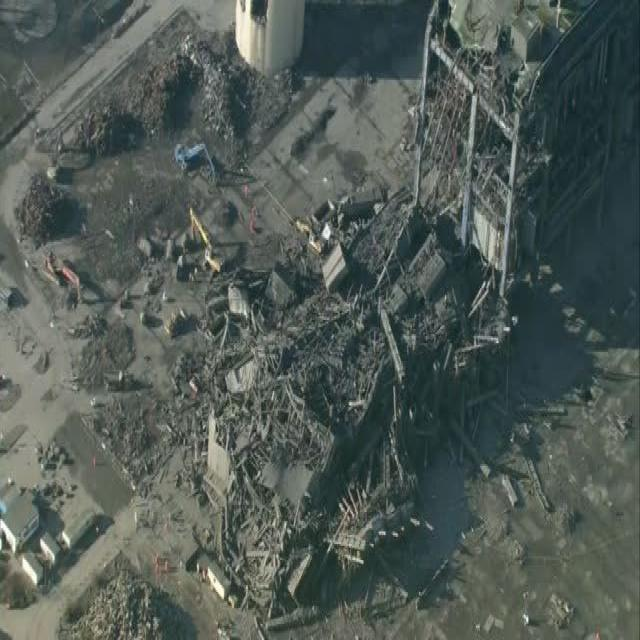collapsed_building: (198, 172, 499, 598)
